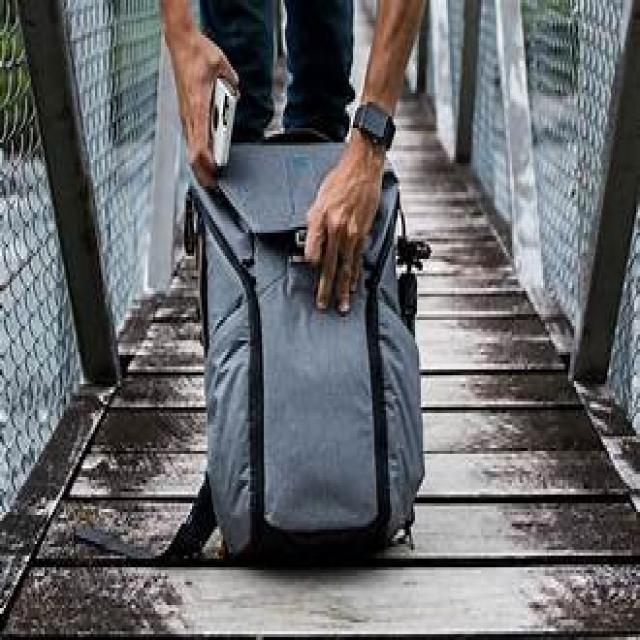backpack: (183, 132, 430, 565)
